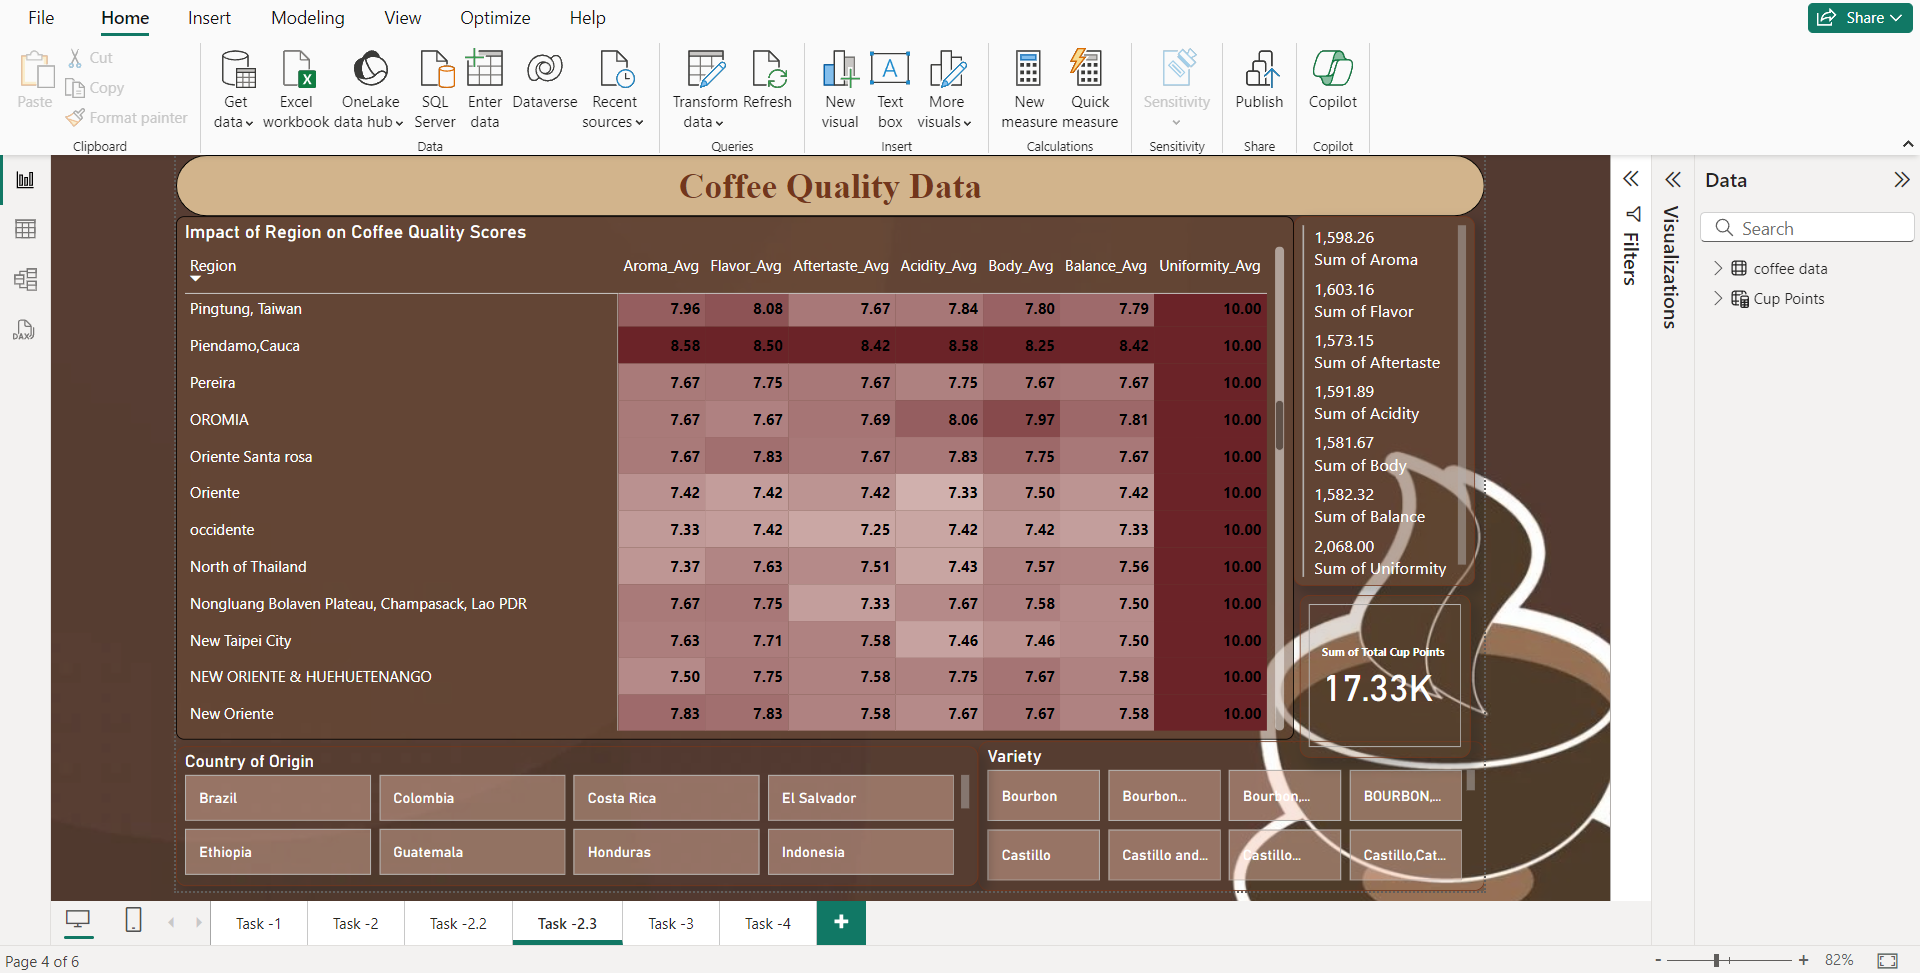

The dashboard page shown, as its layout file describes it:
{"tool":"powerbi","page":{"name":"Task -2.3","canvas":[1280,720],"ordinal":3},"visuals":[{"type":"shape","box":[0,0,1280.3,59.9],"z":0},{"type":"multiRowCard","fields":{"Values":["Sum(Cup Points.Aroma)","Sum(Cup Points.Flavor)","Sum(Cup Points.Aftertaste)","Sum(Cup Points.Acidity)","Sum(Cup Points.Body)","Sum(Cup Points.Balance)","Sum(coffee data.Uniformity)"]},"box":[1093.2,59.9,177.3,362],"z":1000},{"type":"advancedSlicerVisual","fields":{"Values":["coffee data.Variety"]},"box":[785.1,573.5,495.2,146.7],"z":2000},{"type":"pivotTable","title":"Impact of Region on Coffee Quality Scores","fields":{"Values":["Cup Points.Aroma_Avg","Cup Points.Flavor_Avg","Cup Points.Aftertaste_Avg","Cup Points.Acidity_Avg","Cup Points.Body_Avg","Cup Points.Balance_Avg","Cup Points.Uniformity_Avg"],"Rows":["coffee data.Region"]},"box":[0,59.9,1093.2,512.4],"z":3000},{"type":"cardVisual","fields":{"Data":["Sum(coffee data.Total Cup Points)"]},"box":[1099.3,430.4,167.5,159],"z":4000},{"type":"advancedSlicerVisual","fields":{"Values":["coffee data.Country of Origin"]},"box":[0,578.4,785.1,137],"z":5000}]}

Visuals, with their boxes on the page's 1280x720 design canvas (x1, y1, x2, y2). These are canvas units, not pixel positions in the 1920x973 screenshot, which may show the page scaled, cropped or inside an application window:
shape: bbox=(0, 0, 1280, 60)
multiRowCard - Sum(Cup Points.Aroma) x Sum(Cup Points.Flavor): bbox=(1093, 60, 1270, 422)
advancedSlicerVisual - coffee data.Variety: bbox=(785, 574, 1280, 720)
"Impact of Region on Coffee Quality Scores" pivotTable: bbox=(0, 60, 1093, 572)
cardVisual - Sum(coffee data.Total Cup Points): bbox=(1099, 430, 1267, 589)
advancedSlicerVisual - coffee data.Country of Origin: bbox=(0, 578, 785, 715)
